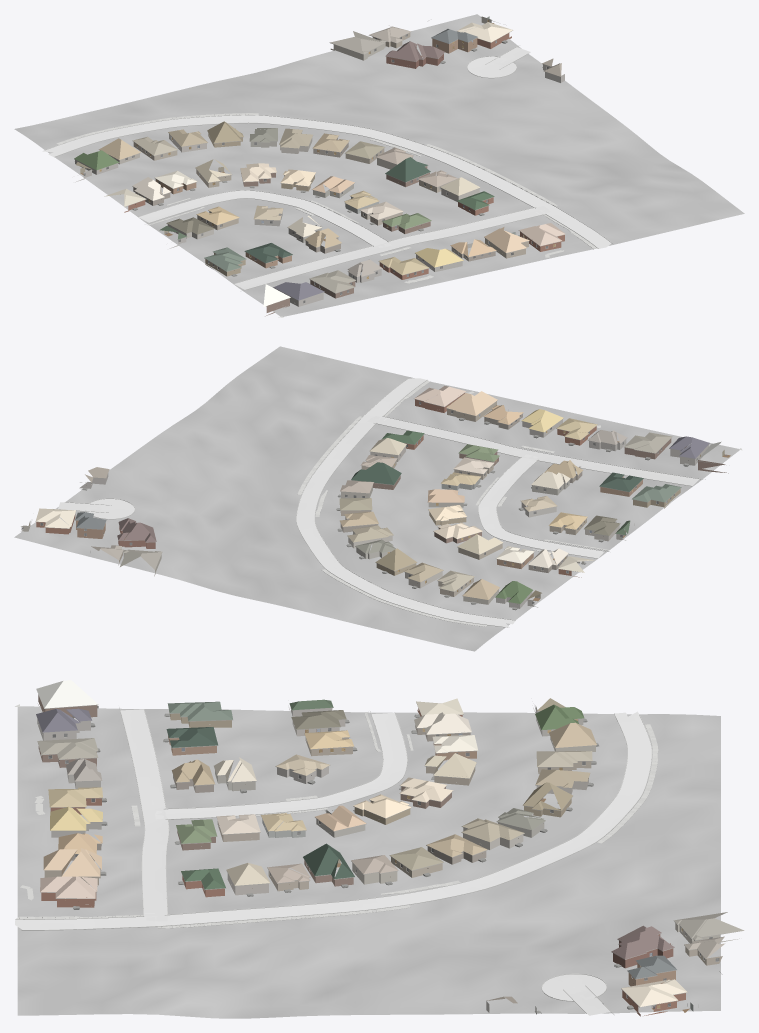
The picture shows the model from 3 angles, top to bottom: view 1: azimuth 30°, elevation 25°; view 2: azimuth 150°, elevation 25°; view 3: azimuth 270°, elevation 25°; orthographic projection. The views are drawn at different scales.
Visible parts, largest first — view 1: ground, roof, concrete, wall, curb, detail, wall_stucco, walk, wall_stone; view 2: ground, roof, concrete, wall, detail, wall_stucco, curb, walk, wall_stone; view 3: ground, roof, concrete, wall, wall_stucco, detail, curb, walk, wall_stone.
Part boxes in pixels (bbox=[...]): ground: bbox=[14, 14, 744, 316]; roof: bbox=[74, 22, 565, 306]; concrete: bbox=[42, 47, 611, 289]; wall: bbox=[124, 33, 564, 316]; curb: bbox=[44, 45, 613, 291]; detail: bbox=[74, 17, 565, 303]; wall_stucco: bbox=[110, 16, 491, 242]; walk: bbox=[56, 113, 597, 317]; wall_stone: bbox=[75, 64, 564, 306]; ground: bbox=[14, 346, 739, 651]; roof: bbox=[35, 385, 721, 603]; concrete: bbox=[58, 378, 699, 627]; wall: bbox=[36, 393, 728, 577]; detail: bbox=[21, 391, 727, 610]; wall_stucco: bbox=[21, 446, 619, 604]; curb: bbox=[53, 377, 705, 627]; walk: bbox=[297, 380, 742, 626]; wall_stone: bbox=[79, 419, 708, 608]; ground: bbox=[17, 706, 720, 1018]; roof: bbox=[36, 680, 744, 1006]; concrete: bbox=[15, 709, 651, 1015]; wall: bbox=[38, 695, 722, 1016]; wall_stucco: bbox=[215, 720, 739, 943]; detail: bbox=[37, 702, 737, 1014]; curb: bbox=[15, 707, 652, 1014]; walk: bbox=[15, 704, 658, 928]; wall_stone: bbox=[37, 705, 583, 1012].
Bounding box in the file's own units: 263 × 16.49 × 260.
